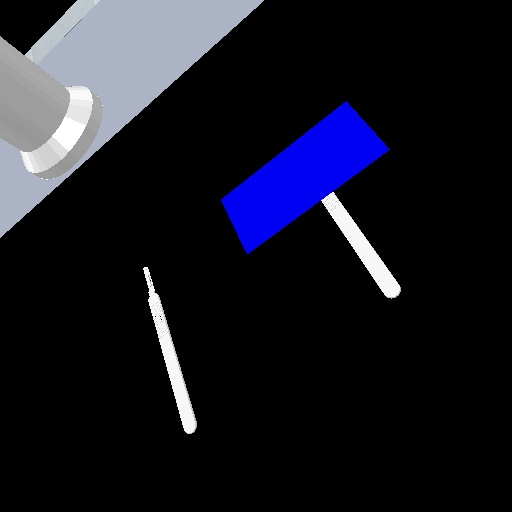bisturi: (139, 263, 201, 437), (319, 188, 405, 302)
